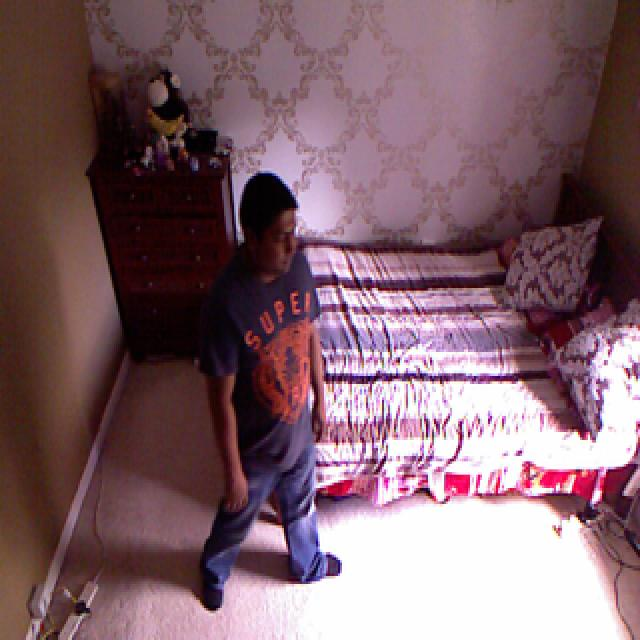standing: (200, 160, 349, 622)
